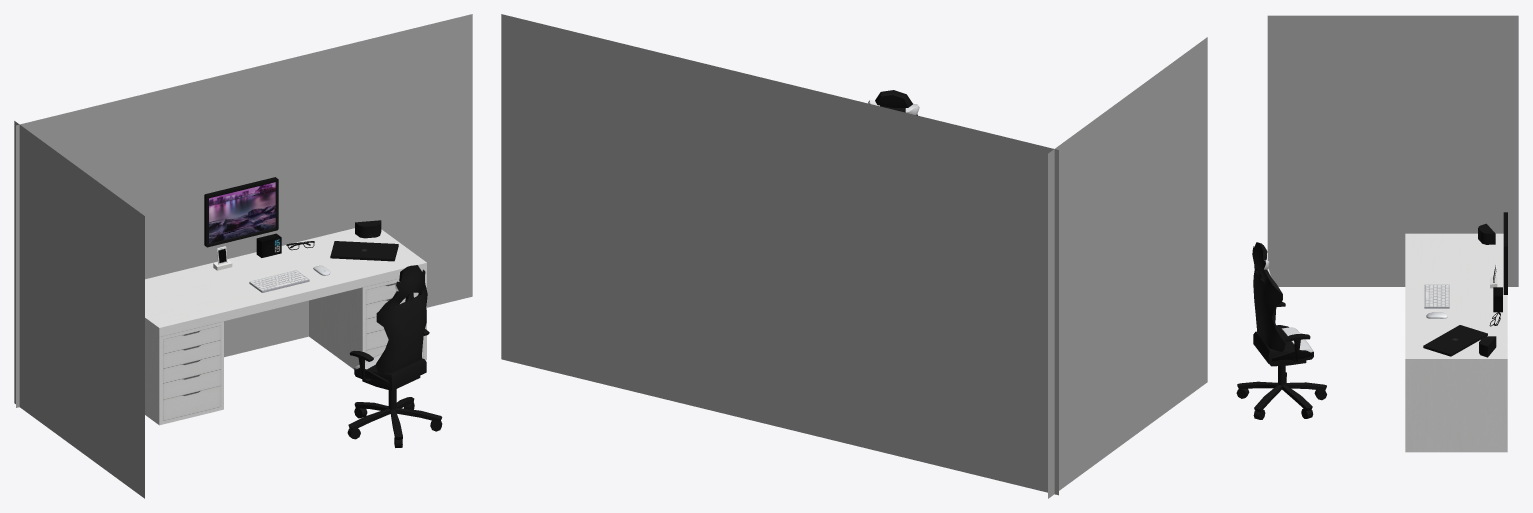
File: setup.fbx
The picture shows the model from 3 angles, left to right: view 1: azimuth 30°, elevation 25°; view 2: azimuth 150°, elevation 25°; view 3: azimuth 270°, elevation 25°; orthographic projection. The views are drawn at different scales.
Parts seen in each view (by area): view 1: Wall, Setup, Wall001; view 2: Wall, Wall001; view 3: Wall001, Setup.
Boxes of the visible parts, box(x1,y1,x2,y2) form: Wall: box(16, 14, 472, 407); Setup: box(145, 177, 442, 447); Wall001: box(14, 121, 144, 498); Wall: box(501, 14, 1058, 495); Wall001: box(1048, 37, 1207, 498); Wall001: box(1267, 15, 1518, 286); Setup: box(1236, 212, 1507, 452).
Size of the model in its own units: 364 by 215 by 203.
